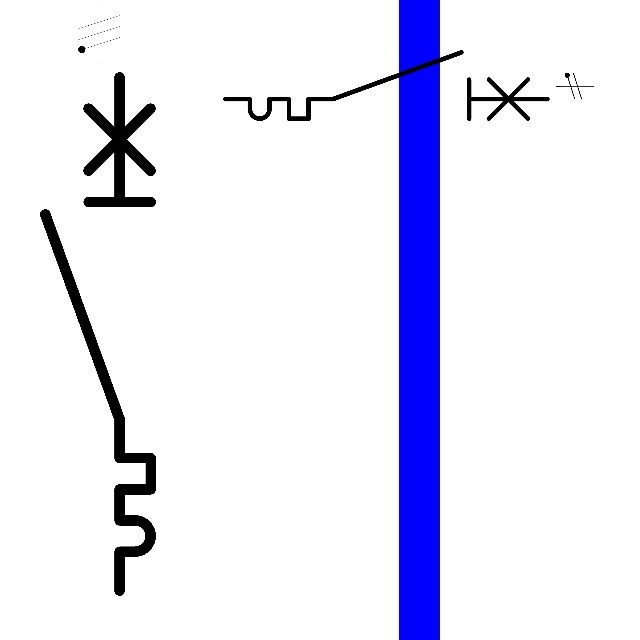interruptor_termomagnetico: (32, 64, 164, 604), (217, 44, 556, 127)
